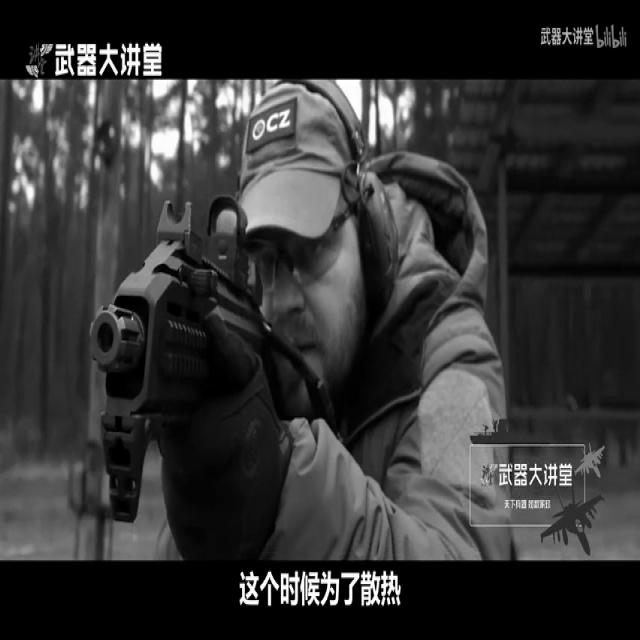Sniper: (33, 128, 391, 640)
